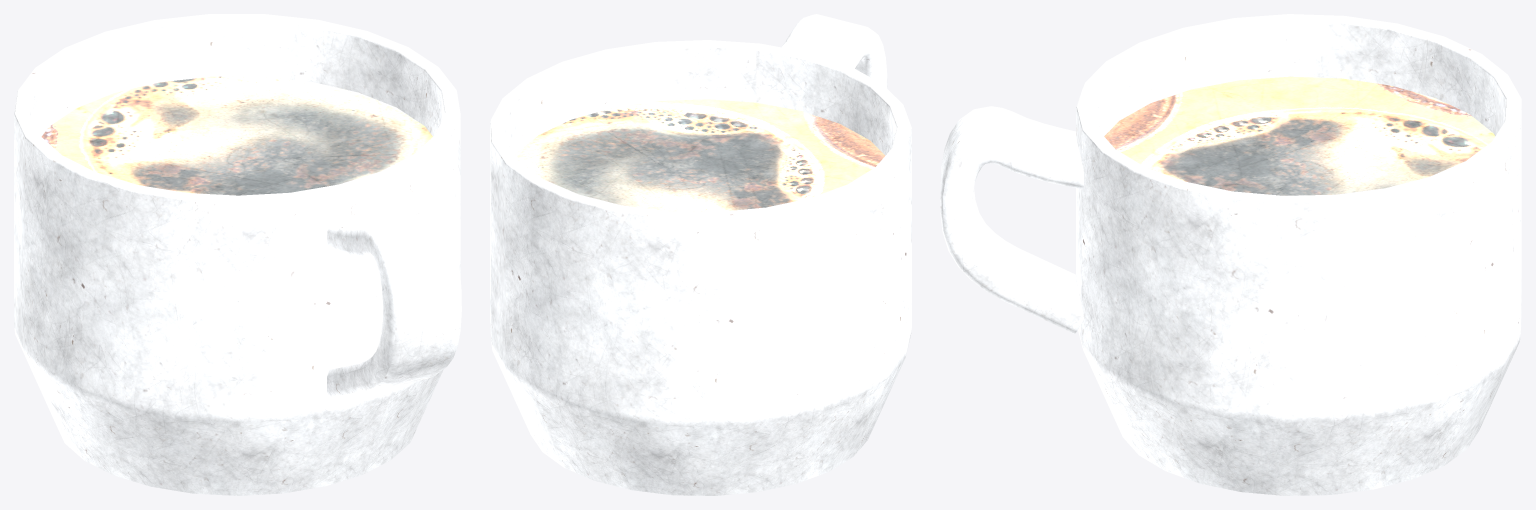
The model's file is SM_CoffeeCup.fbx.
3 views of the same model, side by side, from view 1: azimuth 30°, elevation 25°; view 2: azimuth 150°, elevation 25°; view 3: azimuth 270°, elevation 25° (orthographic). The views are drawn at different scales.
Visible parts, largest first — view 1: SM_CoffeeCup; view 2: SM_CoffeeCup; view 3: SM_CoffeeCup.
Part boxes in pixels (x1,y1,x2,y2): SM_CoffeeCup: [14, 14, 461, 495]; SM_CoffeeCup: [490, 14, 911, 495]; SM_CoffeeCup: [940, 14, 1521, 495].
Bounding box in the file's own units: 6.87 × 8.95 × 5.3.
Materials: 2 (1 with a texture image).
